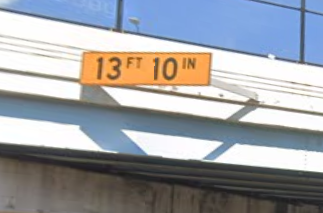0: (161, 55, 180, 82)
1: (150, 56, 160, 81), (94, 56, 104, 80)
3: (106, 56, 123, 81)
overheadsign: (80, 50, 211, 85)
